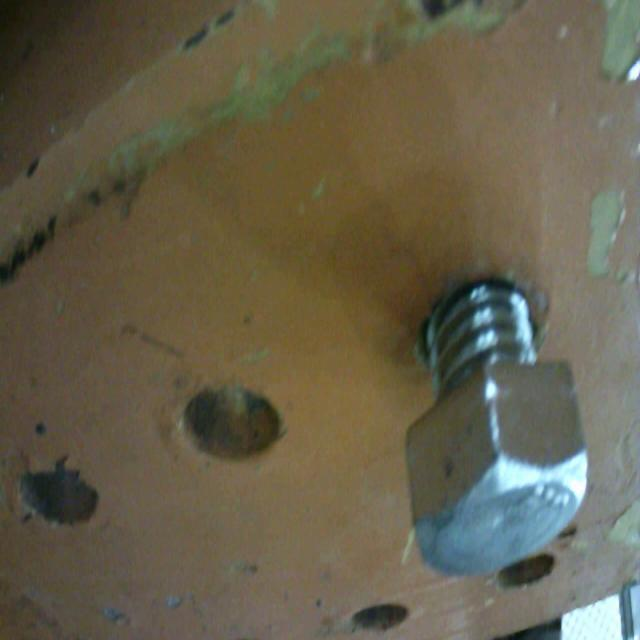Loose bolt: (407, 287, 589, 573)
Missing bolt: (184, 376, 283, 465), (20, 468, 102, 525), (498, 555, 556, 592), (352, 601, 410, 636)
Regular bolt: (409, 280, 589, 557)
